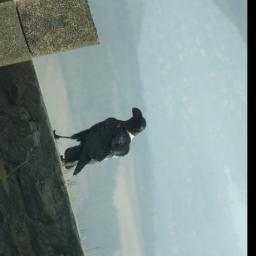Crow: (49, 103, 158, 178)
